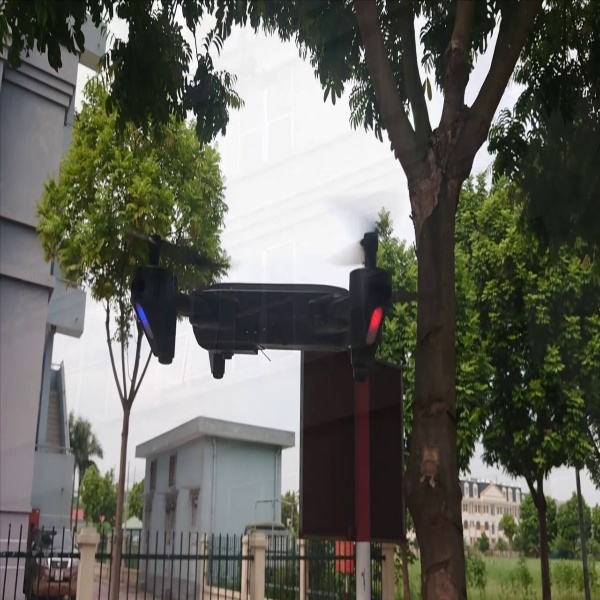drone: (117, 219, 403, 388)
